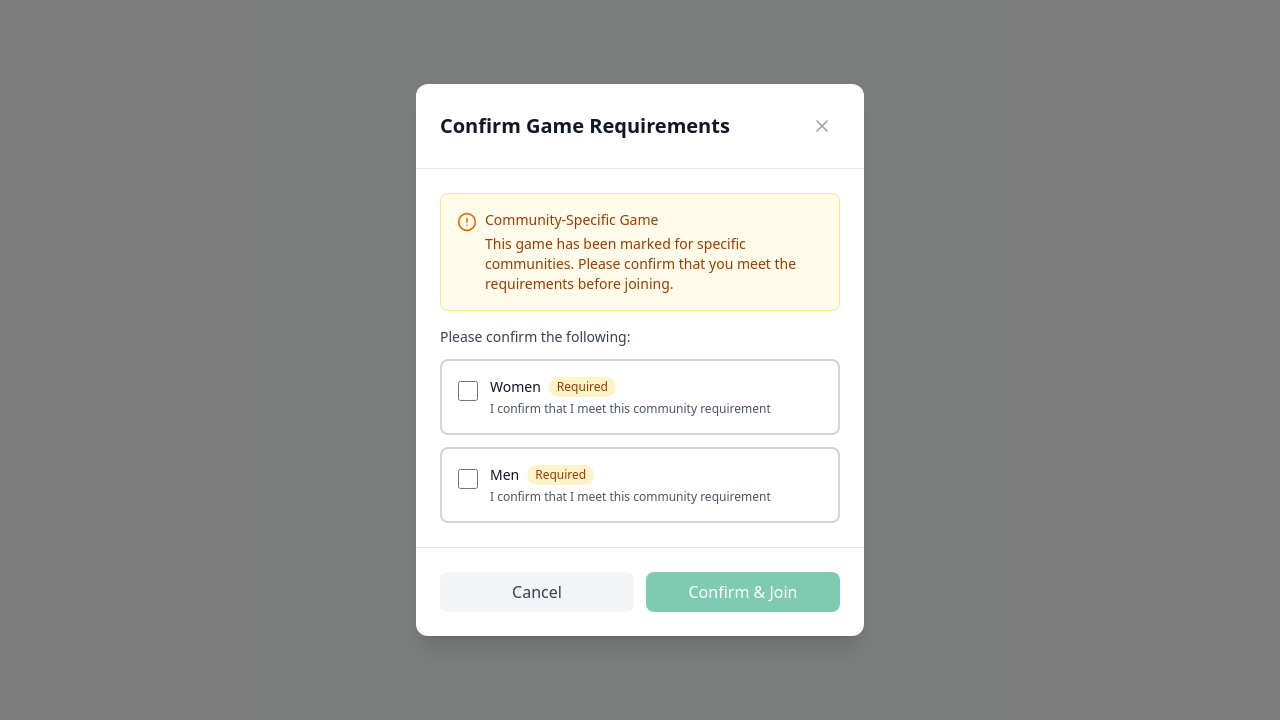
Test case: JoinConfirmationModal › should enable confirm button when all tags confirmed
This screenshot has width=1280, height=720.
Click the 1st checkbox: (468, 391) [458,381,478,401]
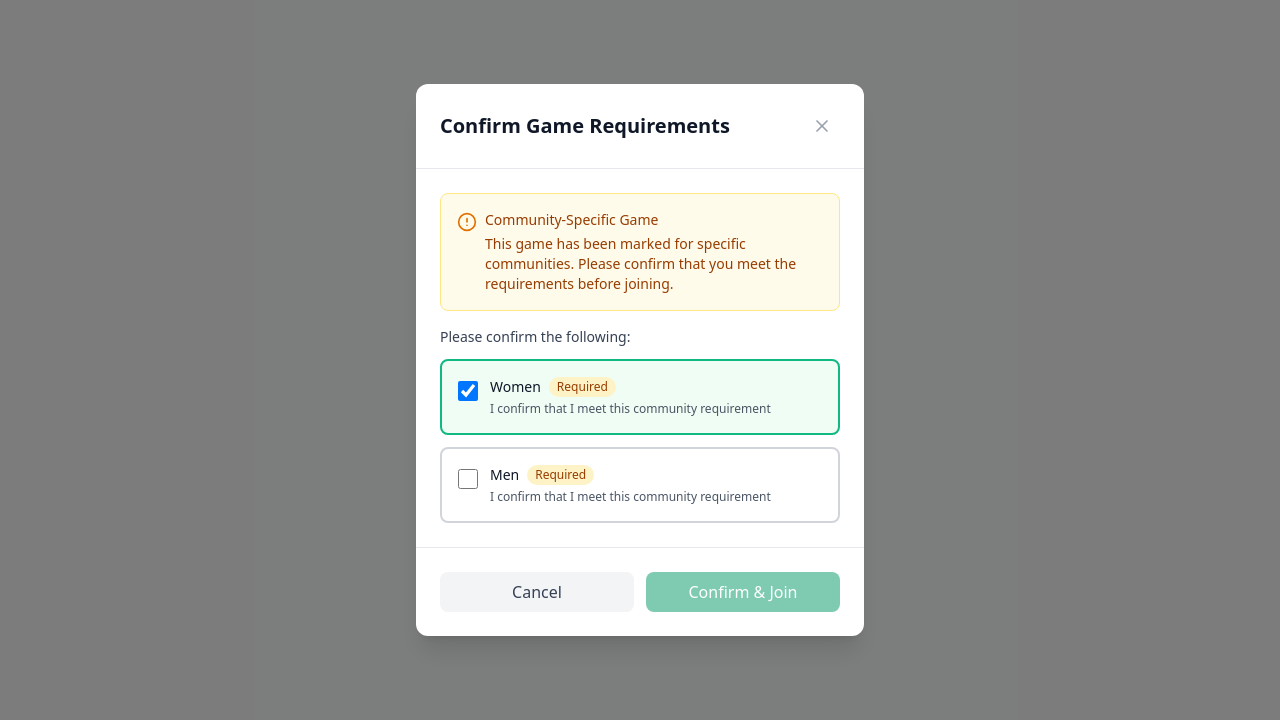
Click the 2nd checkbox: (468, 479) [458,469,478,489]
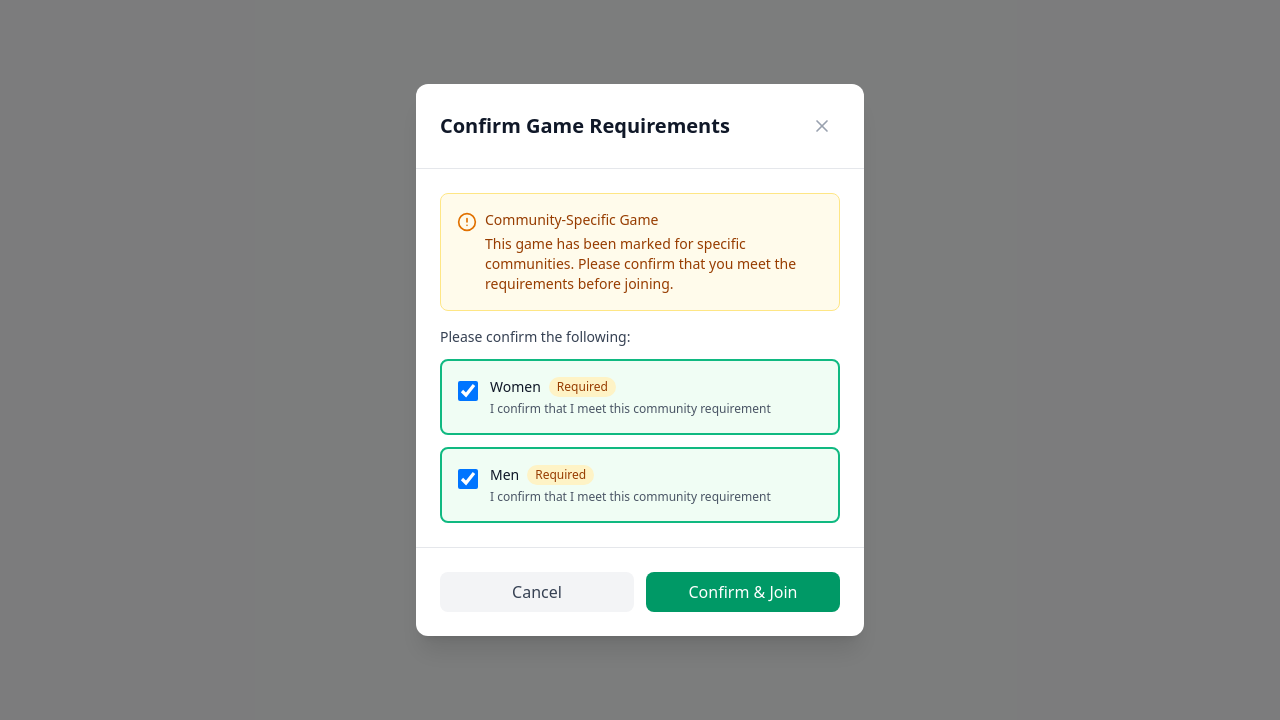
Check: the button "Confirm & Join" is enabled, box [646,572,840,612]
